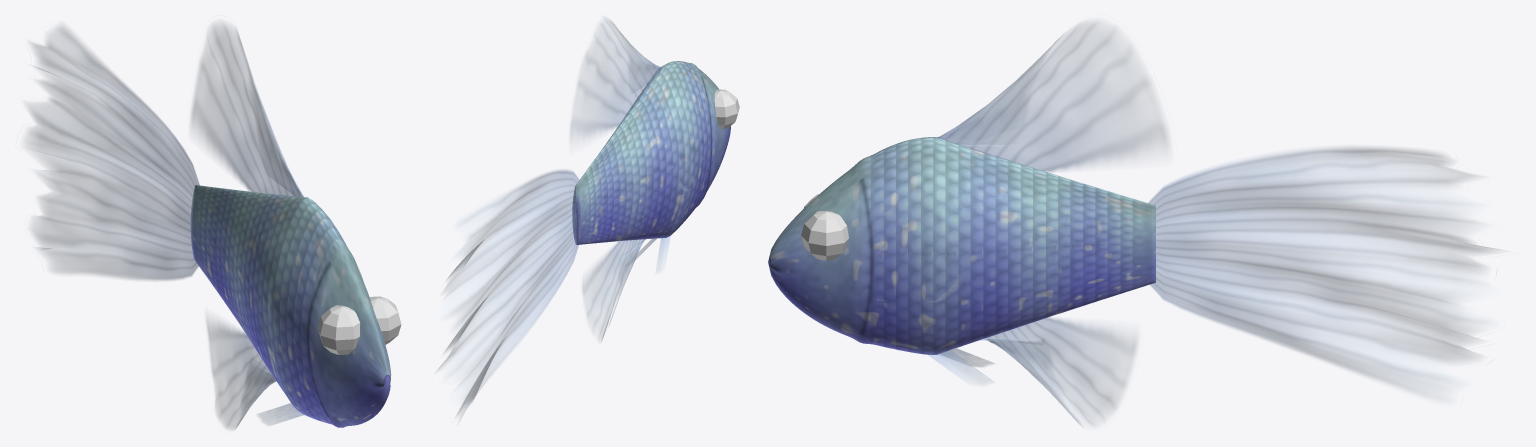
Rendered from moonfish.glb.
3 renders of one model, left to right at view 1: azimuth 30°, elevation 25°; view 2: azimuth 150°, elevation 25°; view 3: azimuth 270°, elevation 25°, orthographic. The views are drawn at different scales.
Visible parts, largest first — view 1: Fins, Body, EyeL, EyeR; view 2: Fins, Body, EyeL; view 3: Fins, Body, EyeR.
Boxes of the visible parts, bbox=[...] form: Fins: bbox=[25, 23, 307, 429]; Body: bbox=[190, 185, 391, 427]; EyeL: bbox=[317, 305, 360, 354]; EyeR: bbox=[370, 296, 401, 344]; Fins: bbox=[437, 17, 670, 421]; Body: bbox=[572, 61, 730, 244]; EyeL: bbox=[714, 89, 739, 129]; Fins: bbox=[928, 20, 1500, 428]; Body: bbox=[768, 137, 1155, 354]; EyeR: bbox=[801, 211, 848, 260].
Bounding box in the file's own units: 0.1176 × 0.5921 × 0.9674.
Materials: 2 (2 with a texture image).
